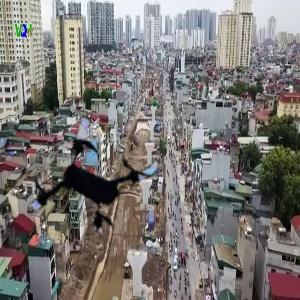drone: (25, 104, 164, 243)
